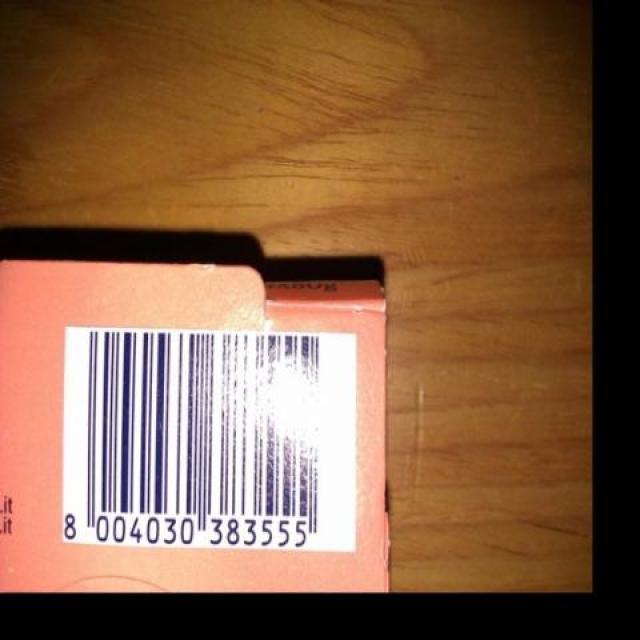Barcode: (61, 327, 358, 553)
